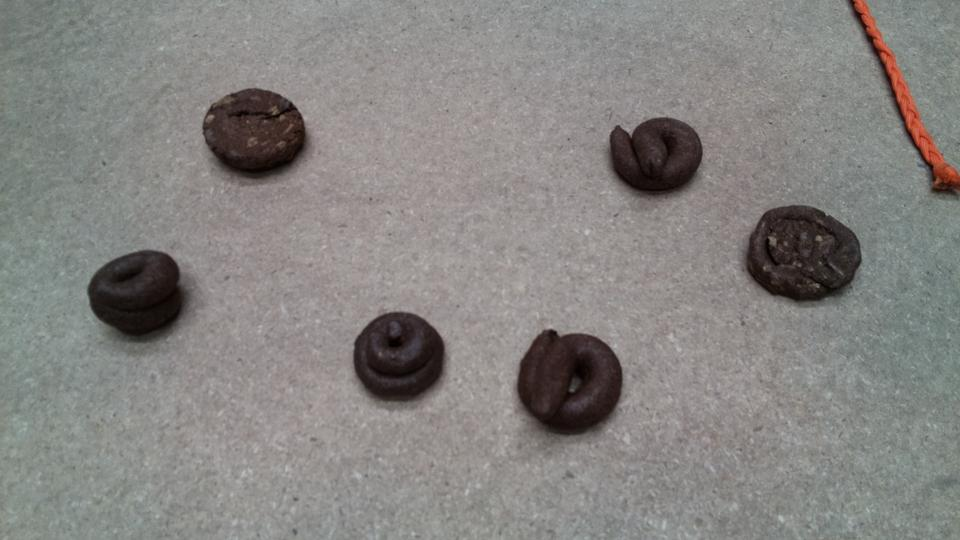poop: (514, 326, 628, 439), (743, 201, 864, 306), (82, 241, 186, 343), (199, 83, 310, 178), (350, 309, 449, 404), (607, 115, 706, 198)
rope: (858, 1, 959, 193)
